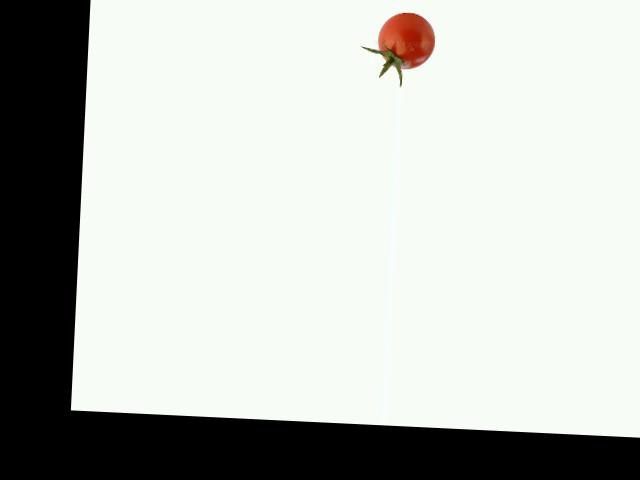tomato: (378, 10, 436, 69)
